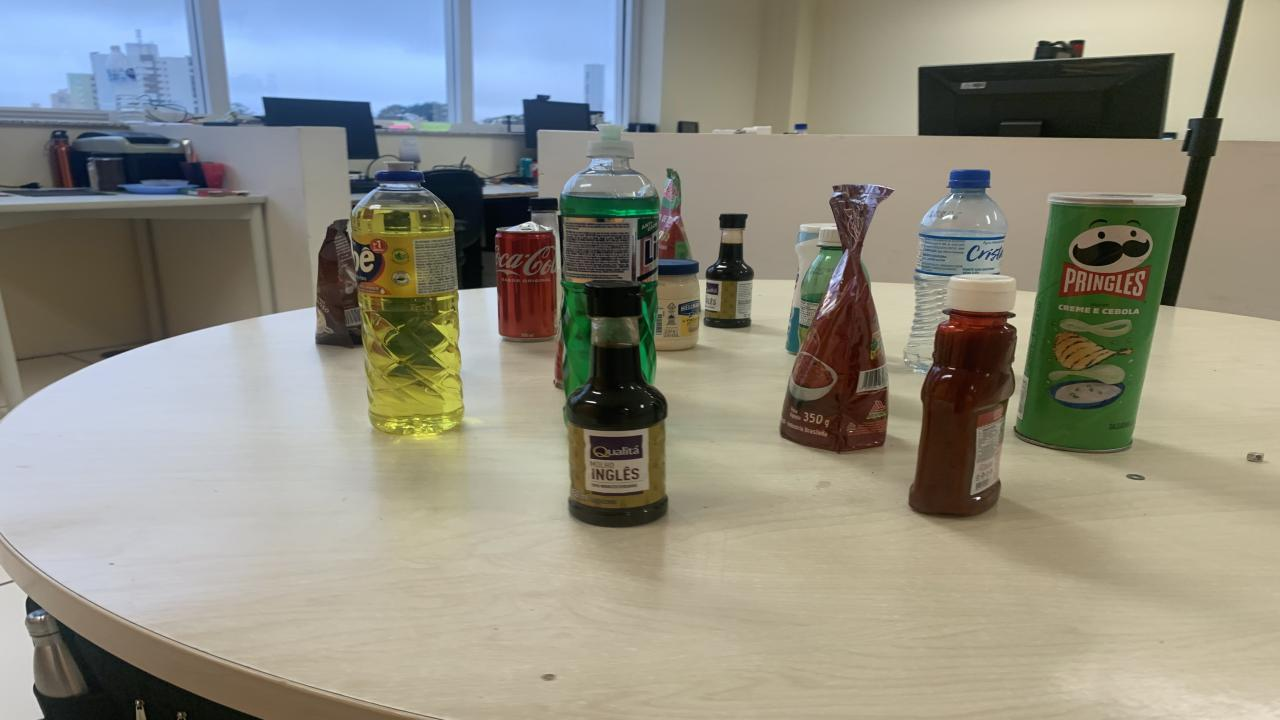Cleaner-Cleanup_Items: (785, 223, 830, 354)
Coffee-Pantry_Items: (315, 219, 362, 347)
Coke-Drinks: (495, 221, 558, 341)
Detergent-Cleanup_Items: (350, 163, 465, 435), (560, 124, 660, 396)
English_Sauce-Pantry_Items: (565, 279, 668, 527), (705, 214, 755, 328)
Guarana-Drinks: (798, 225, 842, 343)
Ketchup-Pantry_Items: (910, 274, 1018, 516)
Mayonnaise-Pantry_Items: (655, 259, 700, 351)
Pringles-Snacks: (1015, 193, 1182, 452)
Tomato_Sauce-Pantry_Items: (780, 184, 892, 452), (658, 169, 690, 259)
Water_Bottle-Drinks: (905, 169, 1008, 371)
